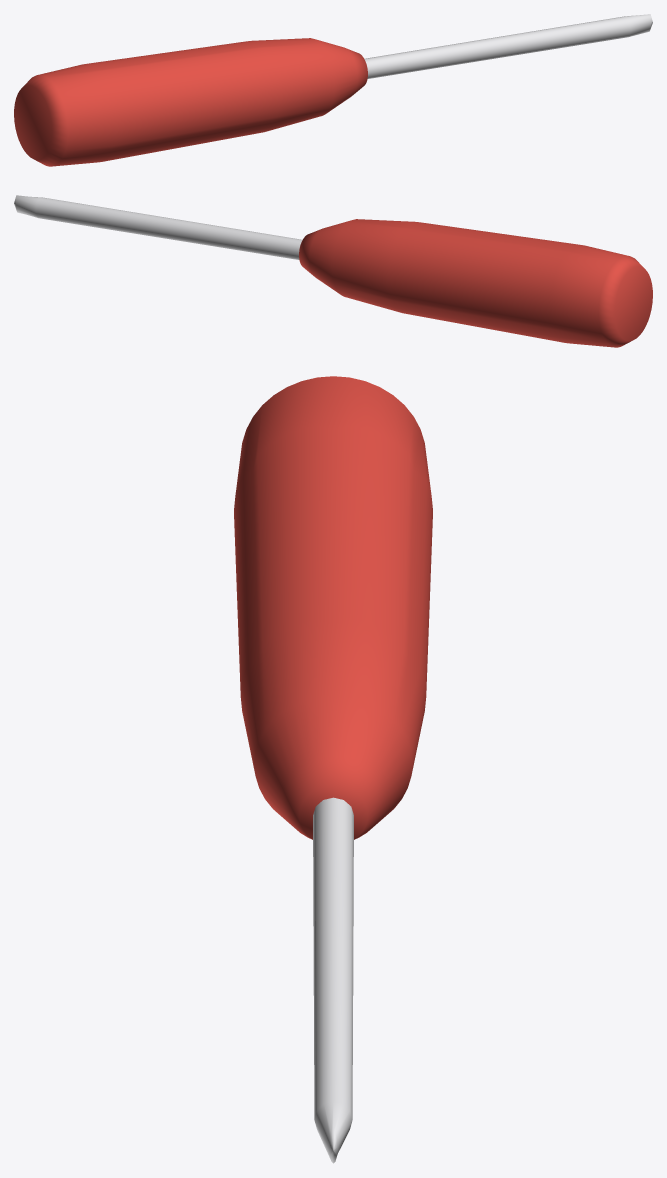
The picture shows the model from 3 angles, top to bottom: view 1: azimuth 30°, elevation 25°; view 2: azimuth 150°, elevation 25°; view 3: azimuth 270°, elevation 25°; orthographic projection. The views are drawn at different scales.
Parts seen in each view (by area): view 1: Screwdriver, flat; view 2: Screwdriver, flat; view 3: Screwdriver, flat.
Part boxes in pixels (x1,y1,x2,y2): Screwdriver, flat: (14,14,652,166); Screwdriver, flat: (14,195,652,347); Screwdriver, flat: (234,376,432,1163).
Bounding box in the file's own units: 0.2092 × 0.0322 × 0.029.
